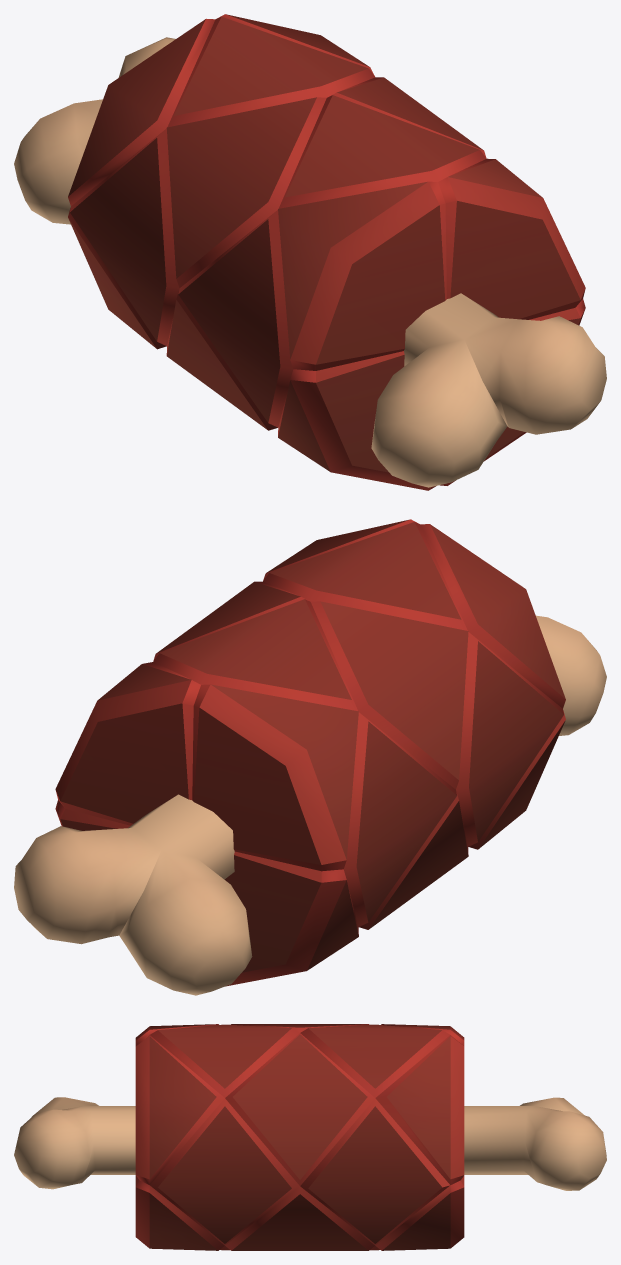
The model's file is Meat_4_A.glb.
3 renders of one model, top to bottom at view 1: azimuth 30°, elevation 25°; view 2: azimuth 150°, elevation 25°; view 3: azimuth 270°, elevation 25°, orthographic. The views are drawn at different scales.
Parts seen in each view (by area): view 1: Meat_4_A; view 2: Meat_4_A; view 3: Meat_4_A.
Boxes of the visible parts, box(x1,y1,x2,y2) form: Meat_4_A: box(14, 14, 606, 490); Meat_4_A: box(14, 519, 606, 995); Meat_4_A: box(14, 1024, 606, 1250).
Bounding box in the file's own units: 0.3495 × 0.3495 × 0.8587.
Materials: 1 (1 with a texture image).
